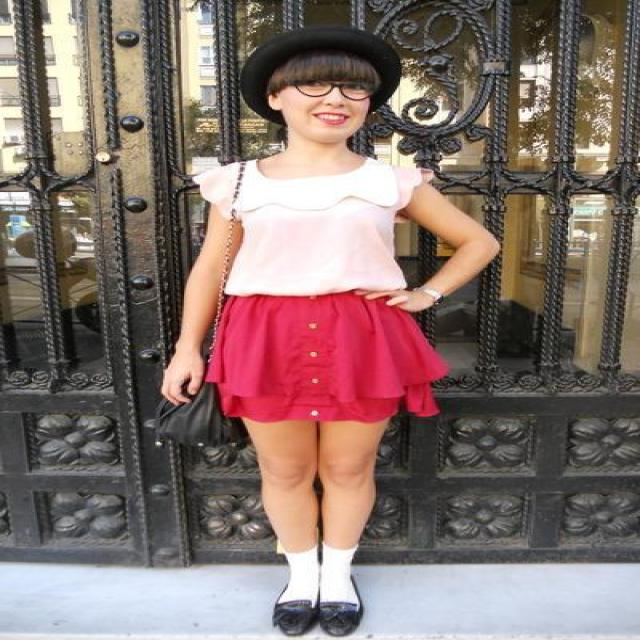hat: (224, 28, 440, 114)
shirt: (200, 158, 437, 294)
shoe: (272, 576, 363, 636)
skirt: (205, 288, 448, 426)
